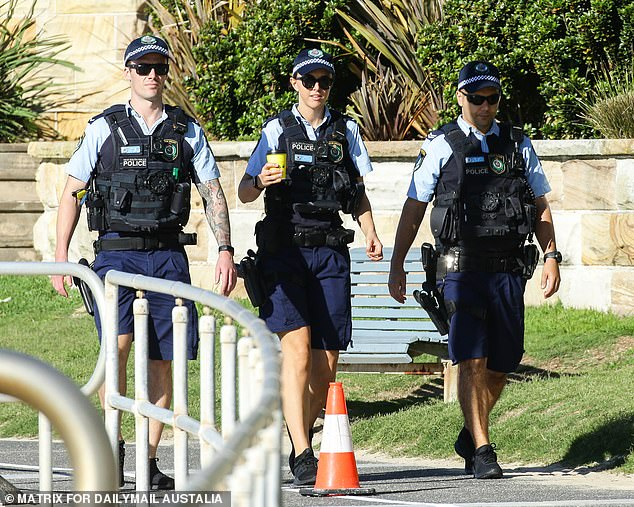Person: (388, 60, 561, 479), (237, 50, 383, 382), (53, 34, 236, 294)
